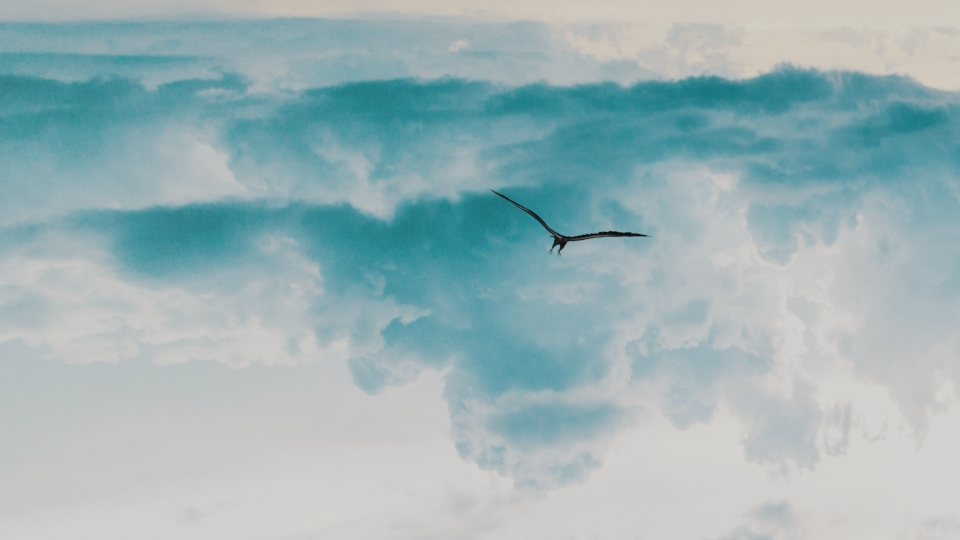bird: (491, 190, 652, 257)
